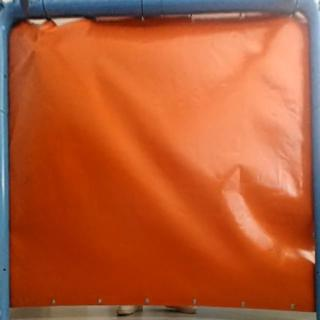Hit-hRxx: (26, 41, 44, 57)
